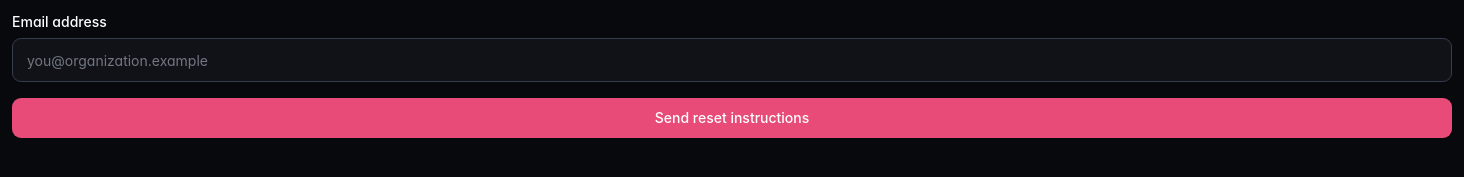
Scenario: Auth Forms › validates ForgotPasswordForm email
This screenshot has width=1464, height=177.
Click the button "Send reset instructions".
click(732, 118)  # box 12,98 -> 1452,138
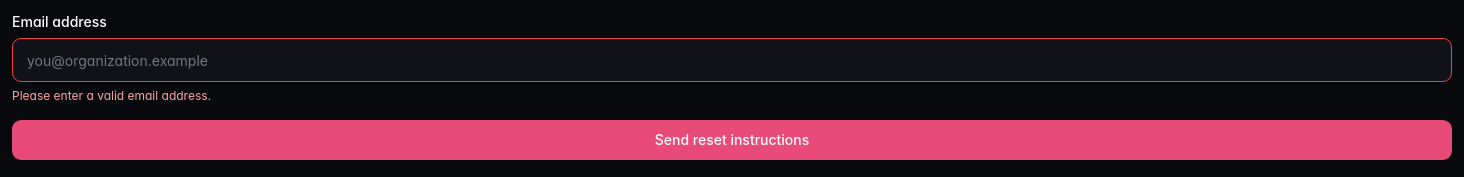
Expected: the text "Please enter a valid email address." is shown, 12,88 -> 211,103
